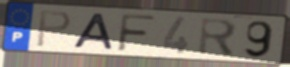4: (161, 15, 191, 56)
9: (243, 19, 274, 59)
A: (71, 12, 116, 52)
F: (116, 13, 158, 54)
P: (34, 9, 73, 49)
R: (196, 16, 239, 59)
